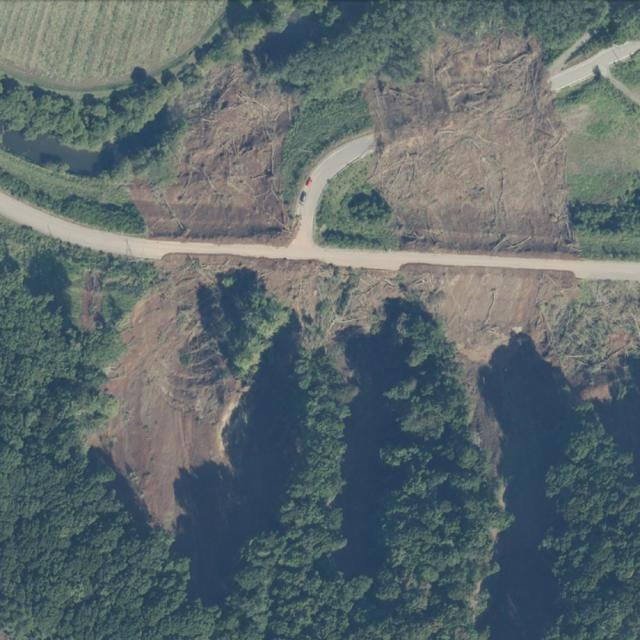landslide: (129, 2, 425, 239), (307, 30, 576, 253), (102, 268, 244, 531), (399, 264, 579, 365)
